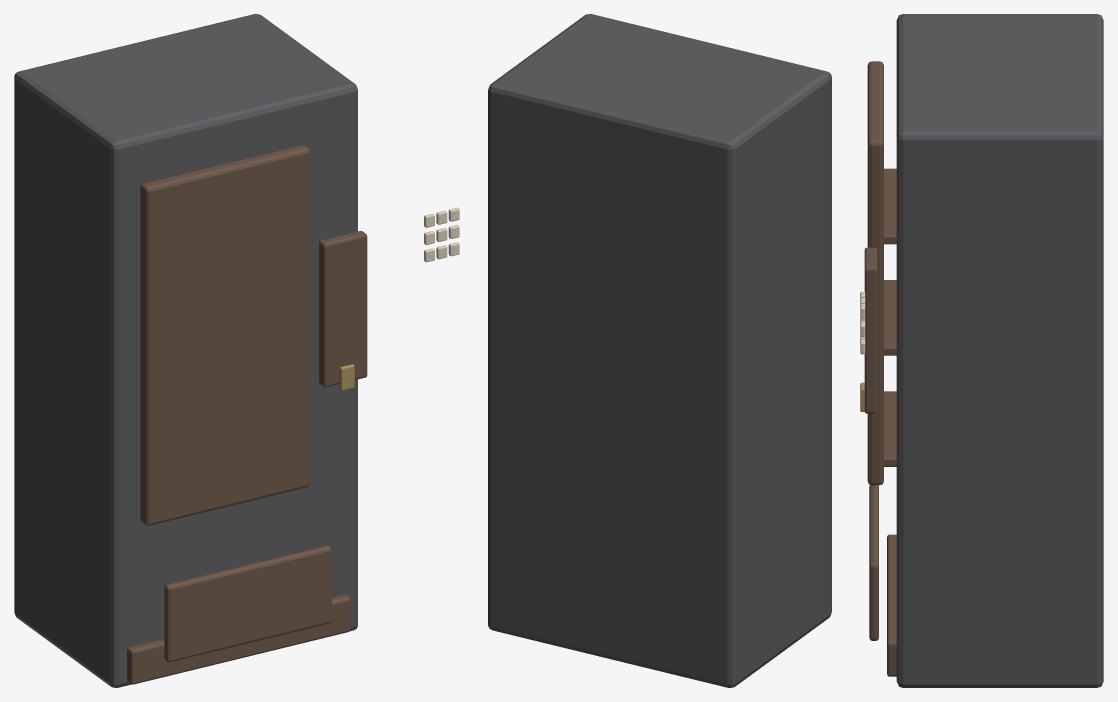
3 views of the same model, side by side, from view 1: azimuth 30°, elevation 25°; view 2: azimuth 150°, elevation 25°; view 3: azimuth 270°, elevation 25° (orthographic).
Parts seen in each view (by area): view 1: vendingUnit; view 2: vendingUnit; view 3: vendingUnit.
Part boxes in pixels (left/top/right/bottom): vendingUnit: left=14, top=14, right=459, bottom=687; vendingUnit: left=488, top=14, right=831, bottom=687; vendingUnit: left=860, top=14, right=1103, bottom=687.
Bounding box in the file's own units: 1.2 × 1.9 × 0.7525.
